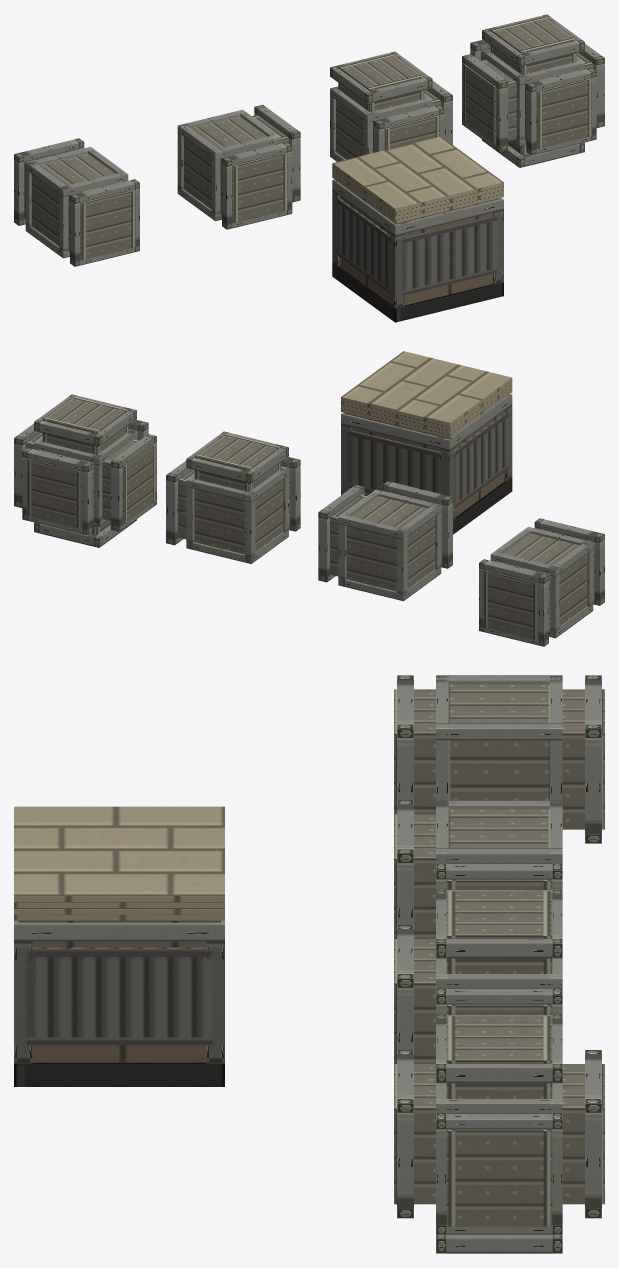
File: components.obj
3 renders of one model, top to bottom at view 1: azimuth 30°, elevation 25°; view 2: azimuth 150°, elevation 25°; view 3: azimuth 270°, elevation 25°, orthographic. The views are drawn at different scales.
Visible parts, largest first — view 1: heating_plate_plate_jacket, heating_plate_heat_contact, sample_1_arm_south, sample_3_arm_south, sample_0_arm_south, sample_3_arm_west, heating_plate_plate_frame, sample_2_arm_up, sample_3_arm_up, sample_0_core, sample_1_core, heating_plate_plate_base (+15 smaller); view 2: heating_plate_plate_jacket, heating_plate_heat_contact, sample_3_arm_north, sample_0_arm_north, sample_1_core, sample_3_arm_west, sample_2_arm_up, sample_3_arm_up, heating_plate_plate_frame, sample_2_core, sample_0_core, sample_1_cap_north (+17 smaller); view 3: heating_plate_heat_contact, heating_plate_plate_jacket, sample_3_arm_east, sample_2_arm_up, sample_3_arm_up, heating_plate_plate_frame, sample_0_arm_north, sample_3_arm_north, sample_3_arm_south, sample_0_cap_east, sample_0_core, heating_plate_plate_roof_edges (+13 smaller).
Boxes of the visible parts, x1=… form: heating_plate_plate_jacket: x1=338, y1=198, x2=497, y2=295; heating_plate_heat_contact: x1=333, y1=136, x2=503, y2=208; sample_1_arm_south: x1=220, y1=142, x2=292, y2=229; sample_3_arm_south: x1=525, y1=67, x2=596, y2=155; sample_0_arm_south: x1=68, y1=179, x2=139, y2=266; sample_3_arm_west: x1=462, y1=54, x2=516, y2=151; heating_plate_plate_frame: x1=332, y1=179, x2=503, y2=308; sample_2_arm_up: x1=330, y1=51, x2=432, y2=112; sample_3_arm_up: x1=482, y1=14, x2=584, y2=74; sample_0_core: x1=25, y1=146, x2=128, y2=258; sample_1_core: x1=177, y1=109, x2=280, y2=221; heating_plate_plate_base: x1=332, y1=263, x2=503, y2=322; heating_plate_plate_jacket: x1=347, y1=412, x2=508, y2=507; heating_plate_heat_contact: x1=341, y1=351, x2=511, y2=423; sample_3_arm_north: x1=22, y1=447, x2=93, y2=535; sample_0_arm_north: x1=479, y1=559, x2=550, y2=646; sample_1_core: x1=338, y1=489, x2=441, y2=601; sample_3_arm_west: x1=102, y1=434, x2=156, y2=531; sample_2_arm_up: x1=186, y1=431, x2=288, y2=491; sample_3_arm_up: x1=34, y1=394, x2=136, y2=454; heating_plate_plate_frame: x1=341, y1=394, x2=512, y2=520; sample_2_core: x1=186, y1=466, x2=288, y2=563; sample_0_core: x1=490, y1=526, x2=593, y2=638; sample_1_cap_north: x1=346, y1=526, x2=396, y2=591; heating_plate_heat_contact: x1=14, y1=806, x2=224, y2=895; heating_plate_plate_jacket: x1=26, y1=947, x2=212, y2=1044; sample_3_arm_east: x1=436, y1=1113, x2=562, y2=1234; sample_2_arm_up: x1=436, y1=889, x2=562, y2=973; sample_3_arm_up: x1=436, y1=1014, x2=562, y2=1098; heating_plate_plate_frame: x1=14, y1=920, x2=224, y2=1063; sample_0_arm_north: x1=562, y1=675, x2=604, y2=843; sample_3_arm_north: x1=562, y1=1050, x2=604, y2=1218; sample_3_arm_south: x1=394, y1=1050, x2=435, y2=1218; sample_0_cap_east: x1=448, y1=740, x2=549, y2=800; sample_0_core: x1=436, y1=675, x2=562, y2=800; heating_plate_plate_roof_edges: x1=14, y1=895, x2=224, y2=920.
Bounding box in the file's own units: 5 × 1 × 2.8.
1 material, 1 textured.
